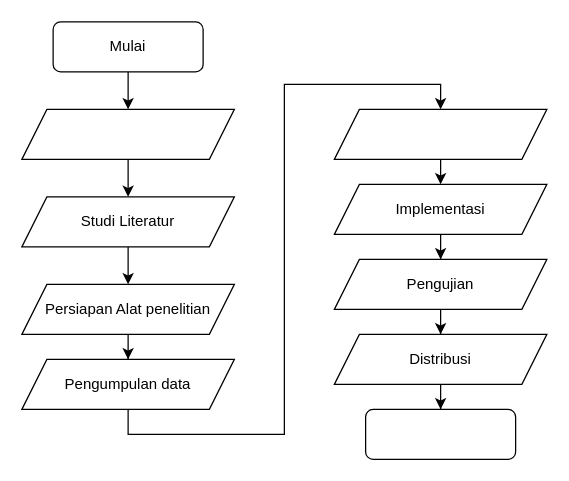
This 569x481 diagram has some shape labels left out. The shapes that lost their labels are listed below. From the top down, each one's centre as x and y in pixels, then its label:
At [127,133]: "Identifikasi Masalah".
At [440,133]: "Perancangan".
At [440,433]: "Selesai".
